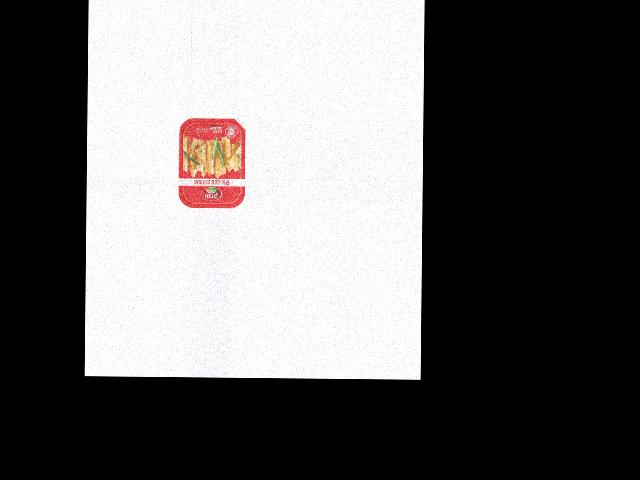cheese: (177, 117, 245, 208)
